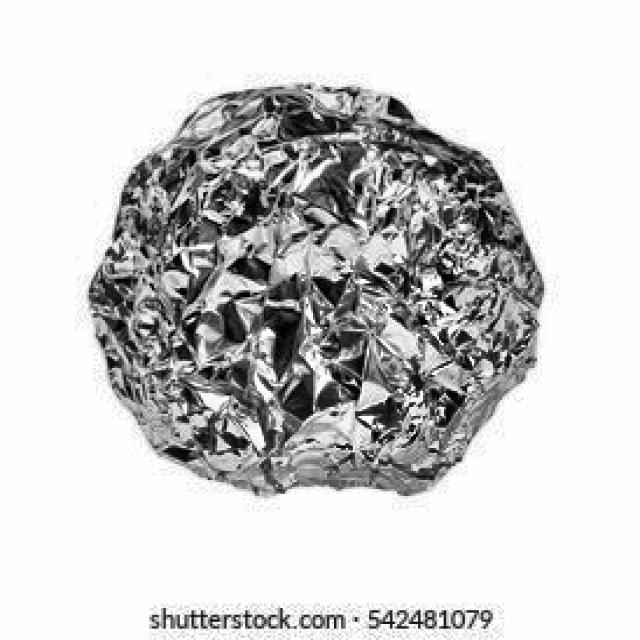Foil: (61, 45, 566, 524)
